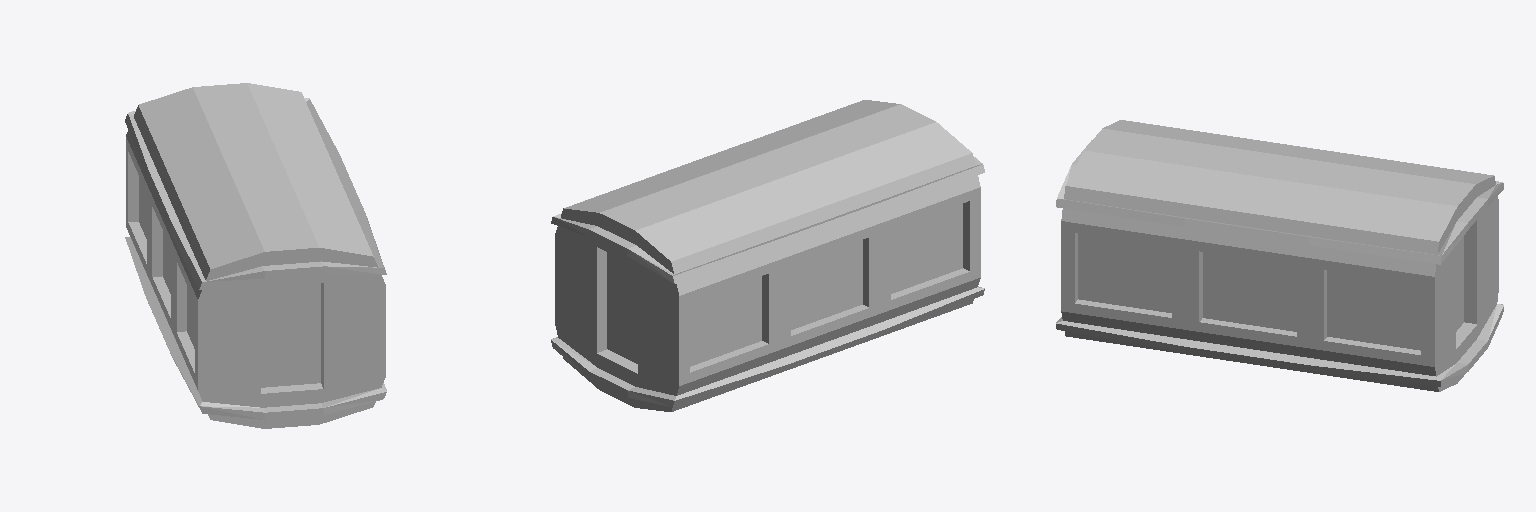
The model's file is prop_trolley.obj.
The picture shows the model from 3 angles: view 1: azimuth 30°, elevation 25°; view 2: azimuth 150°, elevation 25°; view 3: azimuth 270°, elevation 25°; orthographic projection.
Parts seen in each view (by area): view 1: prop_trolley; view 2: prop_trolley; view 3: prop_trolley.
Part boxes in pixels (x1,y1,x2,y2): prop_trolley: (125, 83, 386, 428); prop_trolley: (551, 100, 984, 411); prop_trolley: (1056, 120, 1503, 391).
Bounding box in the file's own units: 39.13 × 24.16 × 55.46.